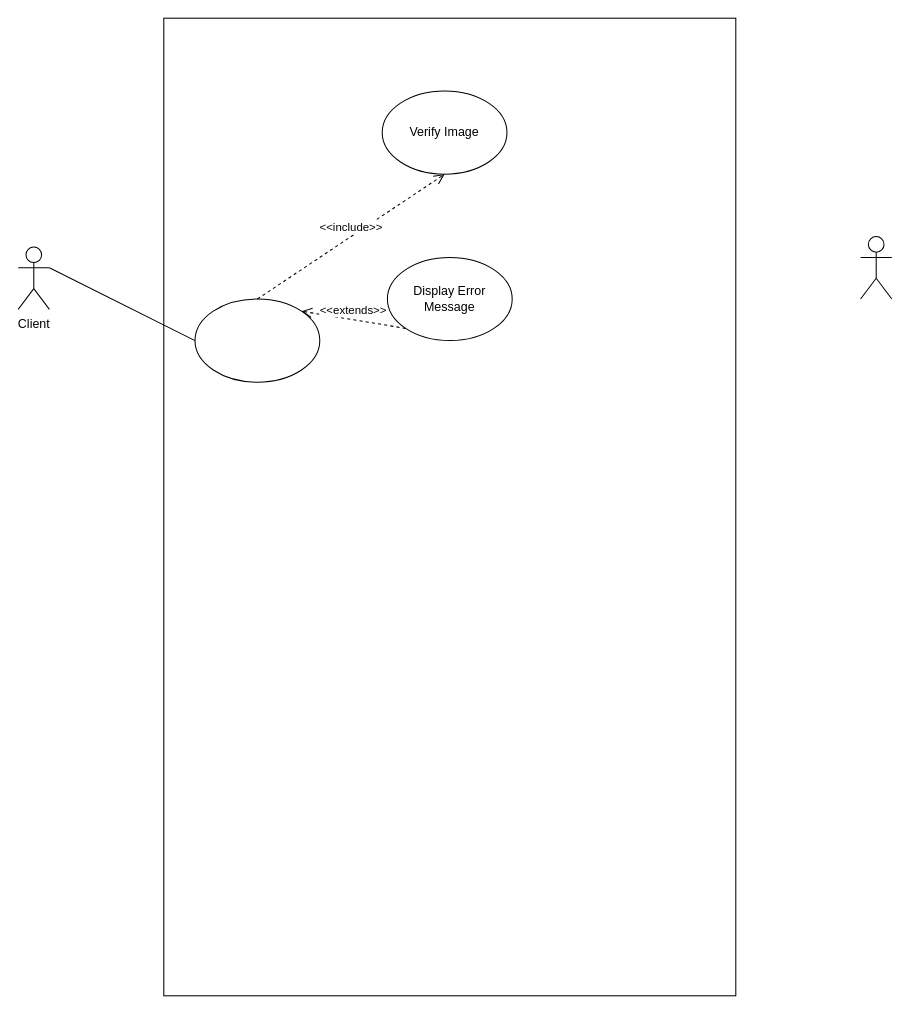
Image size: 912x1014. Some labels were removed from this diagram. The box of each missing label's shape, as (x1, y1, x2, y2) in pixels:
Create 3D Model: (194, 298, 320, 382)
Server: (860, 236, 892, 299)
